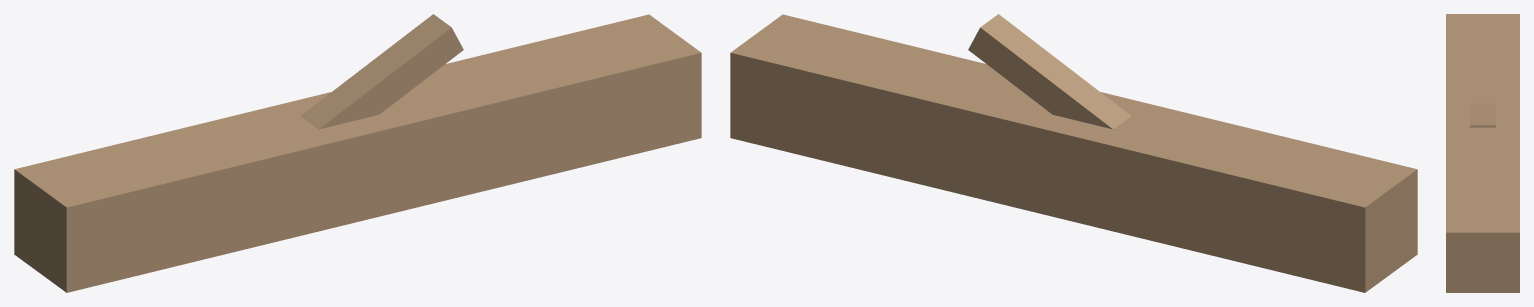
3 renders of one model, left to right at view 1: azimuth 30°, elevation 25°; view 2: azimuth 150°, elevation 25°; view 3: azimuth 270°, elevation 25°, orthographic. The views are drawn at different scales.
Bounding box in the file's own units: 7 × 1.63 × 1.
